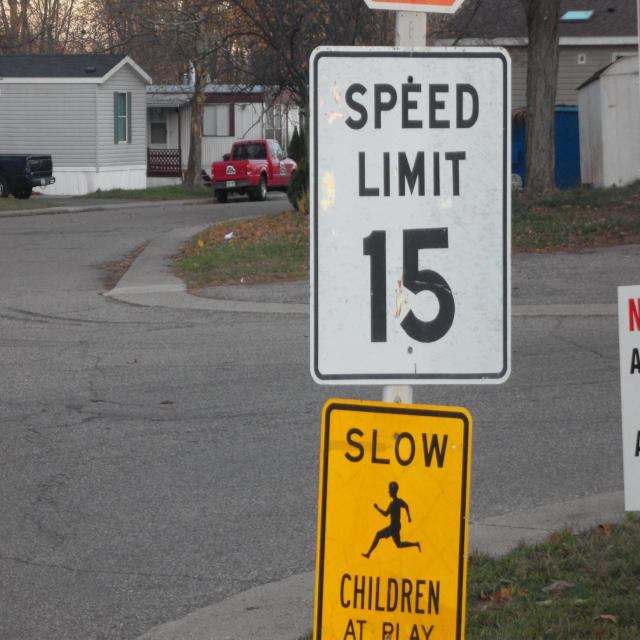regulatory: (305, 36, 514, 388), (305, 49, 514, 390)
warning: (310, 393, 475, 640)
